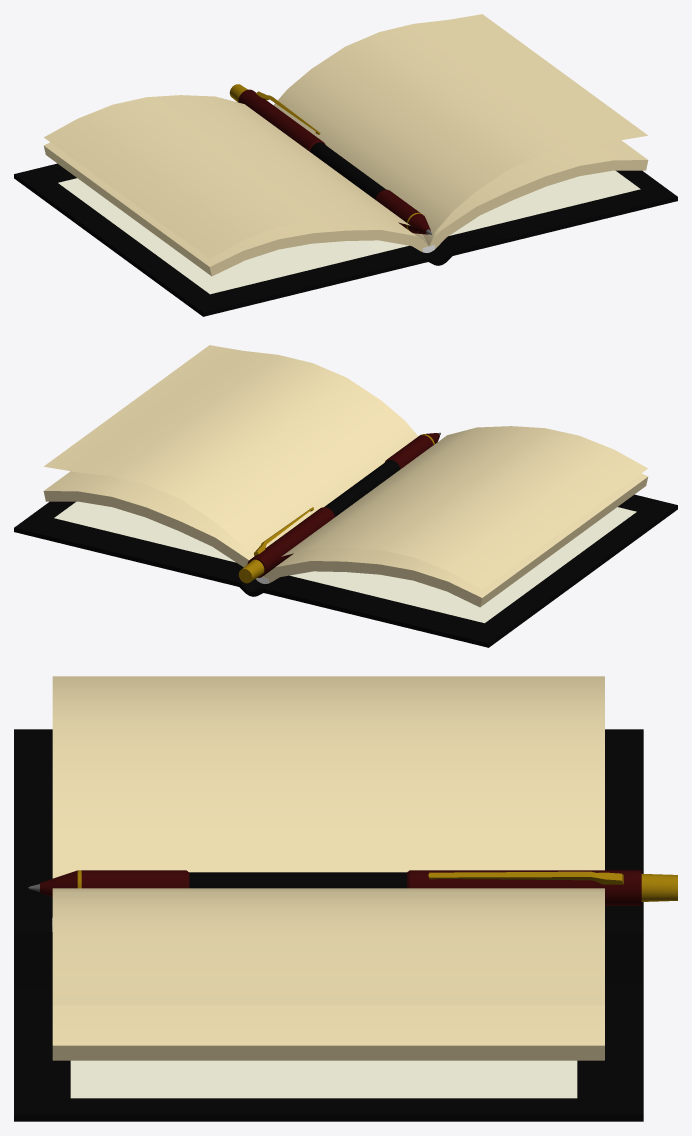
The model's file is notebook.glb.
3 renders of one model, top to bottom at view 1: azimuth 30°, elevation 25°; view 2: azimuth 150°, elevation 25°; view 3: azimuth 270°, elevation 25°, orthographic. The views are drawn at different scales.
Visible parts, largest first — view 1: Object_2, Object_3, Object_9, Object_12, Object_8, Object_10, Object_5; view 2: Object_2, Object_3, Object_9, Object_12, Object_8, Object_10, Object_5; view 3: Object_3, Object_2, Object_9, Object_12, Object_8, Object_10, Object_5, Object_11, Object_4.
Part boxes in pixels (<box>): Object_2: <box>273,14,647,245</box>; Object_3: <box>44,95,428,258</box>; Object_9: <box>14,163,677,316</box>; Object_12: <box>43,140,648,276</box>; Object_8: <box>58,170,640,294</box>; Object_10: <box>238,89,430,234</box>; Object_5: <box>310,142,385,199</box>; Object_2: <box>44,345,418,576</box>; Object_3: <box>263,426,647,589</box>; Object_9: <box>14,494,677,647</box>; Object_12: <box>43,471,648,607</box>; Object_8: <box>54,501,636,623</box>; Object_10: <box>247,433,439,577</box>; Object_5: <box>324,460,400,516</box>; Object_3: <box>52,676,604,878</box>; Object_2: <box>52,888,604,1005</box>; Object_9: <box>14,729,643,1121</box>; Object_12: <box>52,1005,604,1060</box>; Object_8: <box>70,1060,577,1098</box>; Object_10: <box>40,870,641,905</box>; Object_5: <box>189,872,406,888</box>; Object_11: <box>77,870,623,888</box>; Object_4: <box>428,873,677,901</box>.
Size of the model in its own units: 5.93 by 0.8939 by 4.32.
